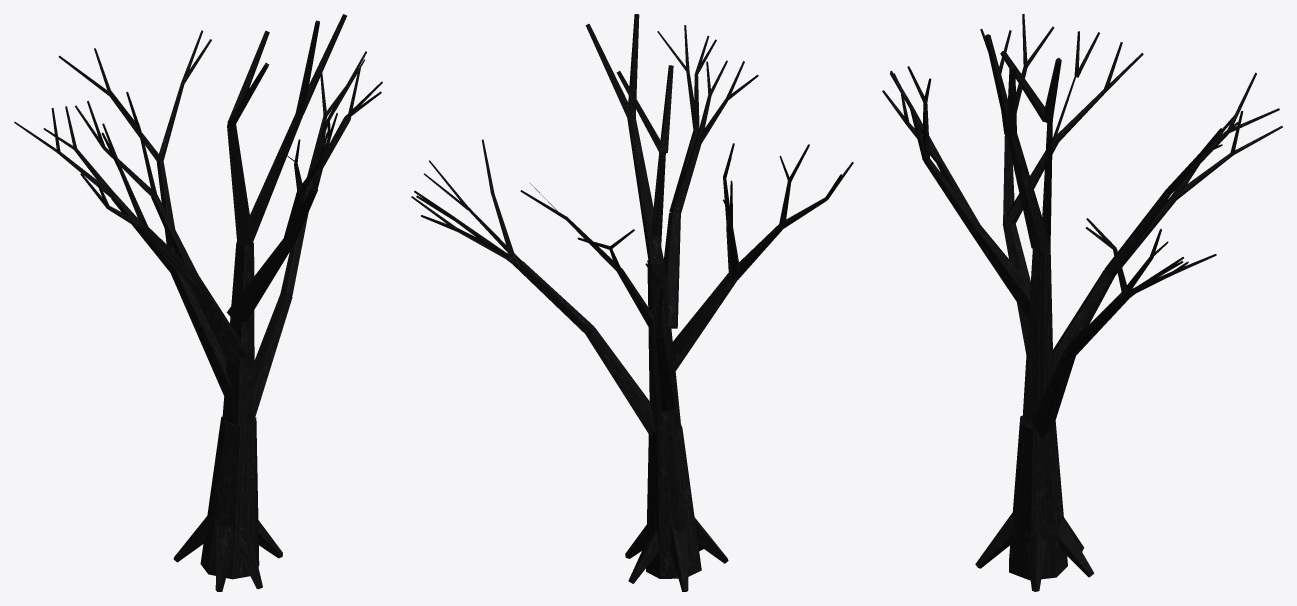
Rendered from tree_dead_01.glb.
3 renders of one model, left to right at view 1: azimuth 30°, elevation 25°; view 2: azimuth 150°, elevation 25°; view 3: azimuth 270°, elevation 25°, orthographic. The views are drawn at different scales.
Visible parts, largest first — view 1: tree_dead_01; view 2: tree_dead_01; view 3: tree_dead_01.
Boxes of the visible parts, box(x1,y1,x2,y2) form: tree_dead_01: box(14, 14, 382, 591); tree_dead_01: box(411, 14, 853, 591); tree_dead_01: box(882, 14, 1282, 591).
Size of the model in its own units: 4.19 by 6.02 by 3.87.
Materials: 1 (1 with a texture image).
